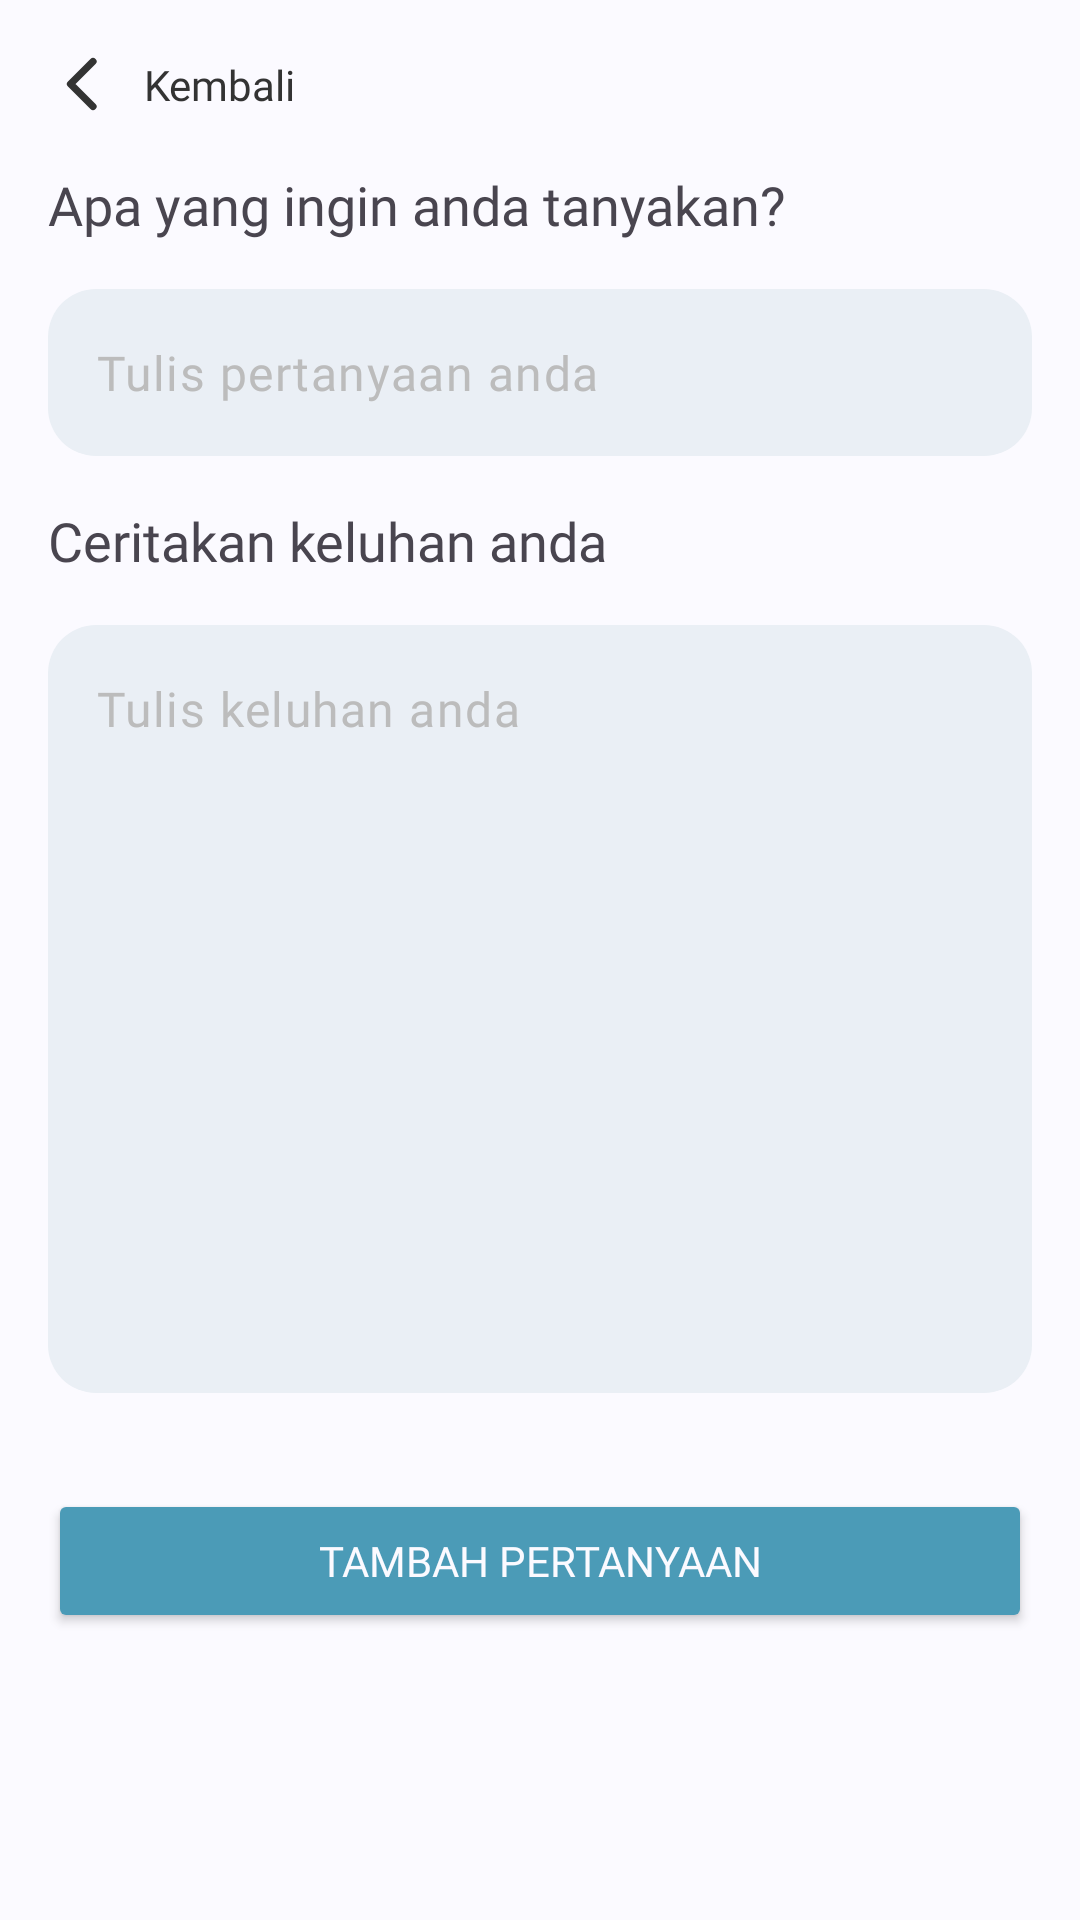

Icon click points for this 1080*1920 phone screenshot, format (x,y):
caretleft: (81,84)
